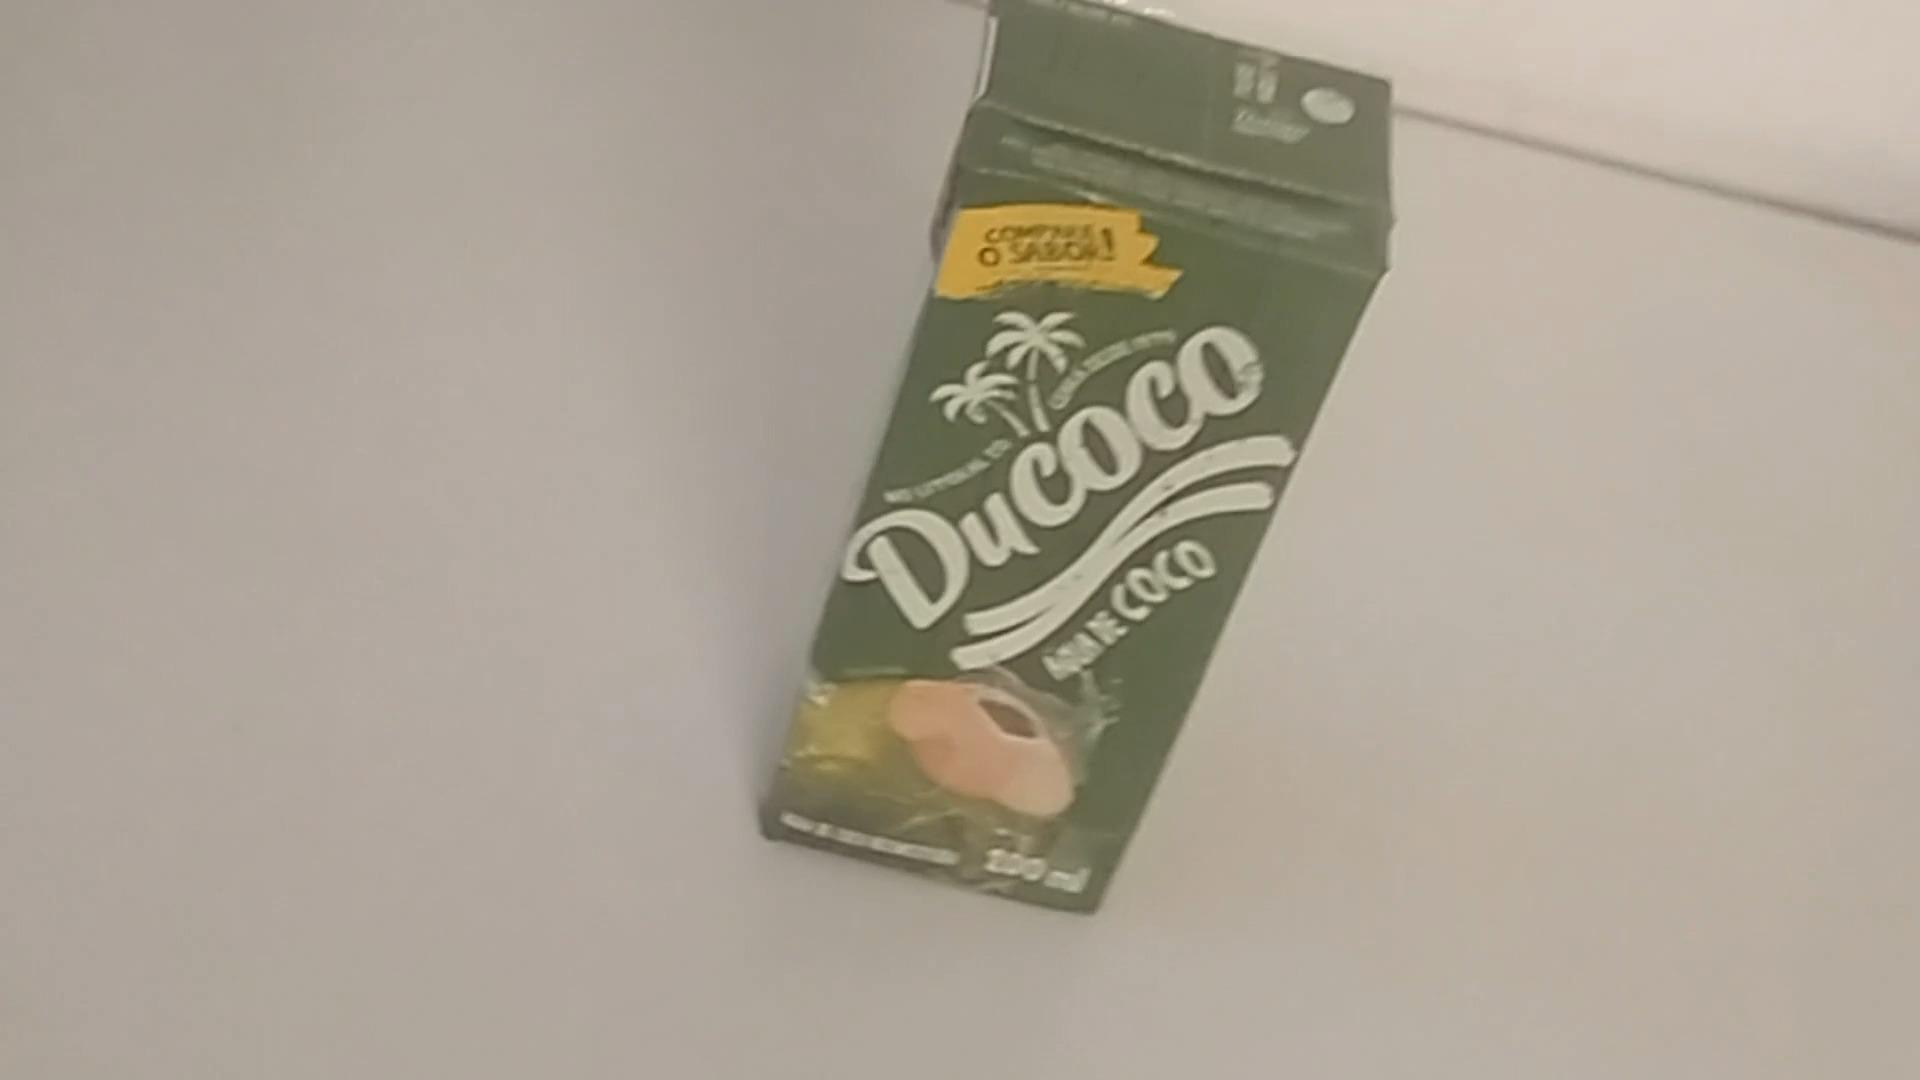coco: (750, 3, 1389, 920)
